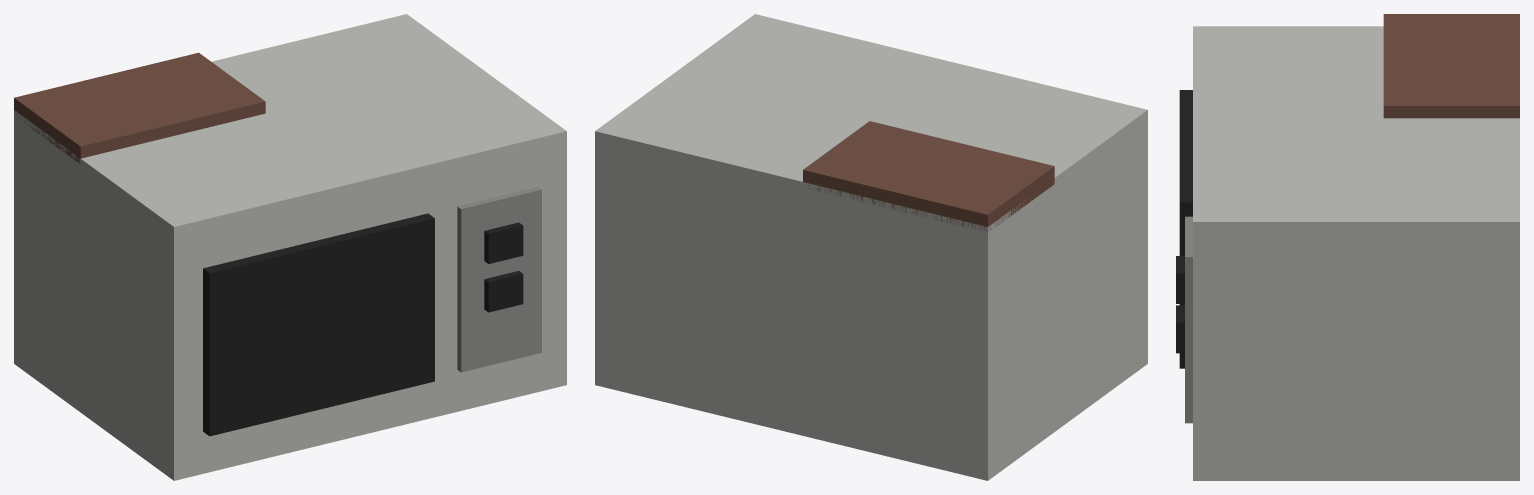
File: junk_microwave.obj
3 renders of one model, left to right at view 1: azimuth 30°, elevation 25°; view 2: azimuth 150°, elevation 25°; view 3: azimuth 270°, elevation 25°, orthographic. The views are drawn at different scales.
Parts seen in each view (by area): view 1: junk_microwave_0, junk_microwave_1, junk_microwave_5, junk_microwave_2, junk_microwave_3, junk_microwave_4; view 2: junk_microwave_0, junk_microwave_5; view 3: junk_microwave_0, junk_microwave_5, junk_microwave_1, junk_microwave_2, junk_microwave_4, junk_microwave_3.
Boxes of the visible parts, x1,y1,x2,y2 form: junk_microwave_0: (14,14,566,480); junk_microwave_1: (203,213,434,436); junk_microwave_5: (14,52,265,163); junk_microwave_2: (457,186,541,372); junk_microwave_3: (484,222,523,263); junk_microwave_4: (484,271,523,312); junk_microwave_0: (595,14,1147,480); junk_microwave_5: (803,121,1054,232); junk_microwave_0: (1193,26,1519,480); junk_microwave_5: (1383,14,1519,118); junk_microwave_1: (1179,90,1192,368); junk_microwave_2: (1185,216,1192,423); junk_microwave_4: (1176,305,1184,353); junk_microwave_3: (1176,256,1184,303).
Size of the model in its own units: 0.782 by 0.506 by 0.5807.
